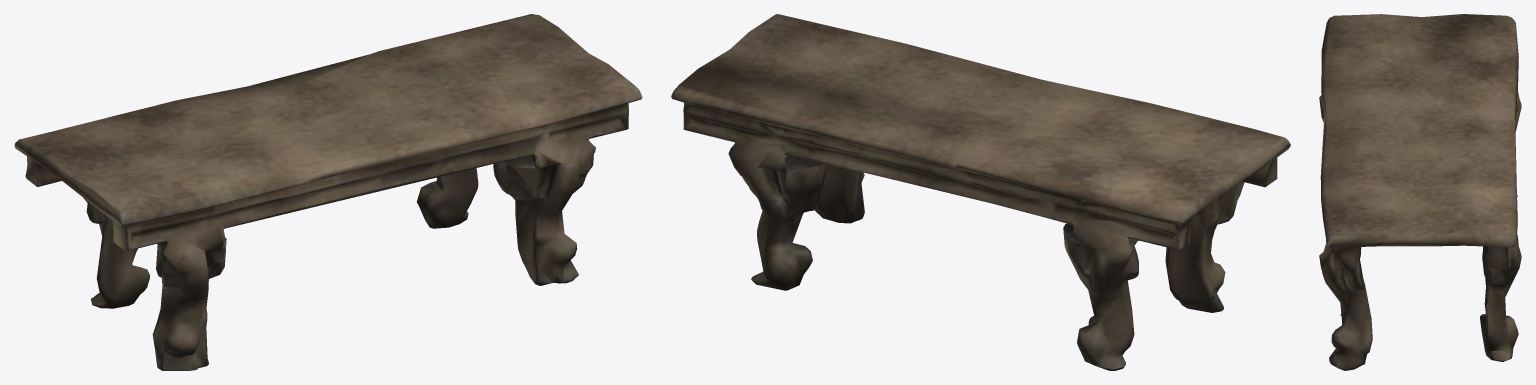
The model's file is ornate-wood-banquet-table-v002.glb.
The picture shows the model from 3 angles, left to right: view 1: azimuth 30°, elevation 25°; view 2: azimuth 150°, elevation 25°; view 3: azimuth 270°, elevation 25°; orthographic projection. The views are drawn at different scales.
Parts seen in each view (by area): view 1: ornate-wood-banquet-table; view 2: ornate-wood-banquet-table; view 3: ornate-wood-banquet-table.
Part boxes in pixels (left/top/right/bottom): ornate-wood-banquet-table: left=14, top=14, right=642, bottom=370; ornate-wood-banquet-table: left=671, top=14, right=1290, bottom=370; ornate-wood-banquet-table: left=1319, top=14, right=1521, bottom=370.
Bounding box in the file's own units: 2.42 × 0.8069 × 0.9284.
Materials: 1 (1 with a texture image).
